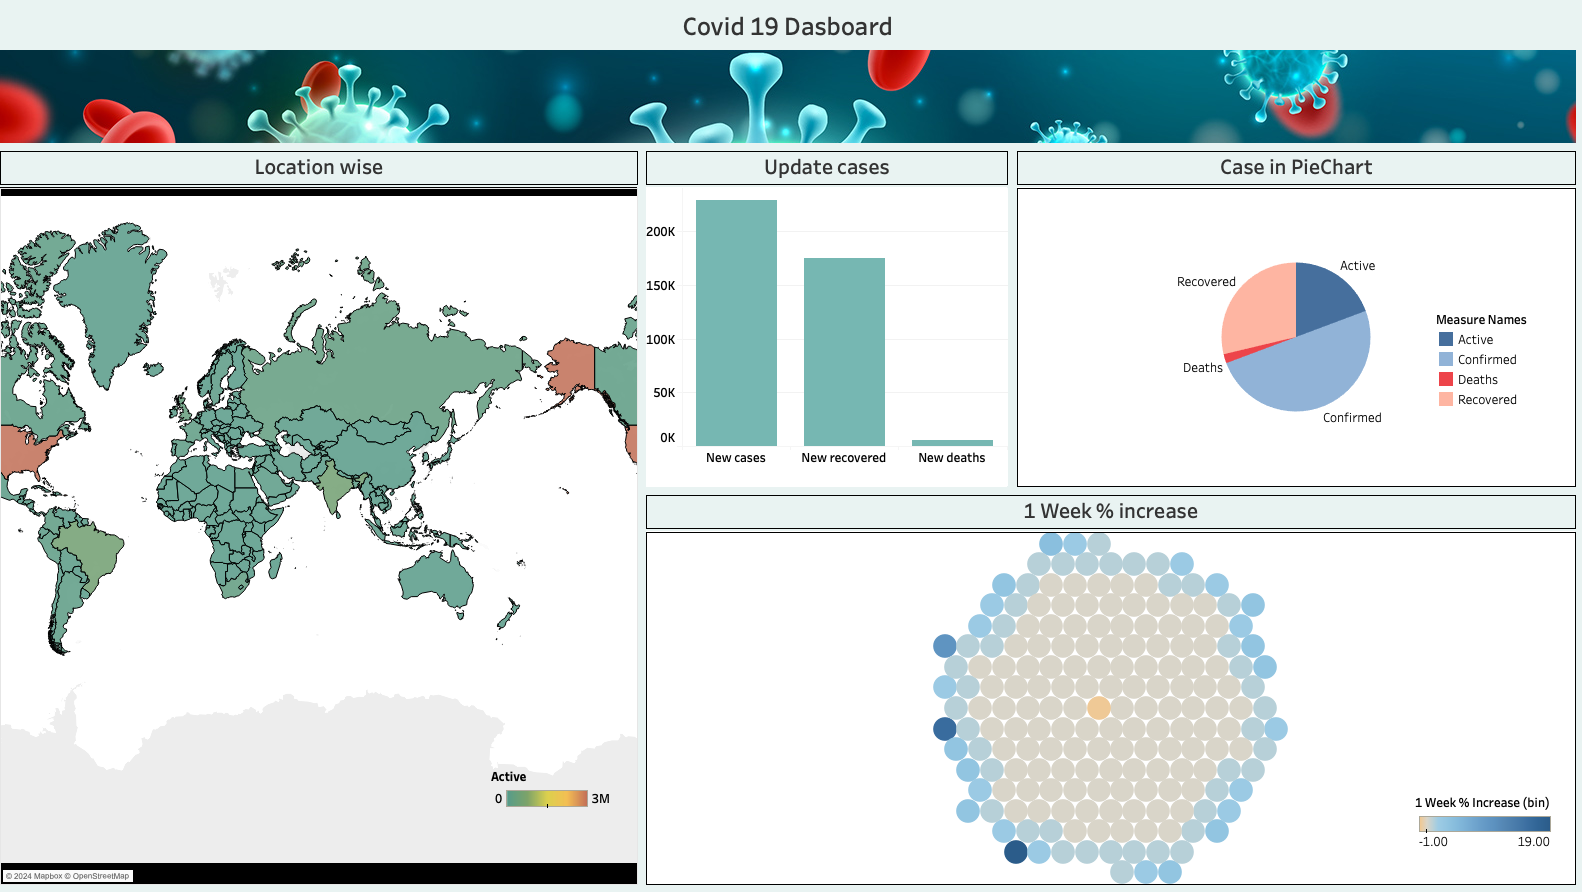

The page's visual inventory and layout, read from the dashboard file:
{"tool":"tableau","page":{"name":"Covid 19 Dasboard","canvas":[1000,1000],"units":"permille","ordinal":0},"visuals":[{"type":"title","box":[5,8.9,990,45.6]},{"type":"image","param":"Image/bcar_coronavirus_illustration_red_aqua.jpg","box":[5,54.5,990,112.3]},{"type":"worksheet","title":"Location wise","mark":"Automatic","box":[5,166.8,403.9,824.4]},{"type":"worksheet","title":"Update cases","mark":"Automatic","box":[408.9,166.8,231.5,382.5]},{"type":"worksheet","title":"Case in PieChart","mark":"Pie","box":[640.4,166.8,354.6,382.5]},{"type":"legend","title":"Case in PieChart","param":"[federated.1brdru91p244ma163cgvf0as3ai8].[:Measure Names]","box":[905,348.9,78.1,108.9]},{"type":"worksheet","title":"1 Week % increase","mark":"Circle","box":[408.9,549.3,586.1,441.9]},{"type":"legend","title":"Location wise","param":"[federated.1brdru91p244ma163cgvf0as3ai8].[sum:Active:qk]","box":[314.4,856.7,77.5,84.4]},{"type":"legend","title":"1 Week % increase","param":"[federated.1brdru91p244ma163cgvf0as3ai8].[none:1 Week % Increase (bin):qk]","box":[891.9,885.6,87.5,84.4]}]}

Visuals, with their boxes on the dashboard's canvas, which has no fixed pixel size, in thousandths of its width and height (x1, y1, x2, y2). These are canvas units, not pixel positions in the 1582x892 screenshot, which may show the page scaled, cropped or inside an application window:
title: x1=5 y1=9 x2=995 y2=54
image: x1=5 y1=54 x2=995 y2=167
"Location wise" worksheet: x1=5 y1=167 x2=409 y2=991
"Update cases" worksheet: x1=409 y1=167 x2=640 y2=549
"Case in PieChart" worksheet (Pie marks): x1=640 y1=167 x2=995 y2=549
"Case in PieChart" legend: x1=905 y1=349 x2=983 y2=458
"1 Week % increase" worksheet (Circle marks): x1=409 y1=549 x2=995 y2=991
"Location wise" legend: x1=314 y1=857 x2=392 y2=941
"1 Week % increase" legend: x1=892 y1=886 x2=979 y2=970
